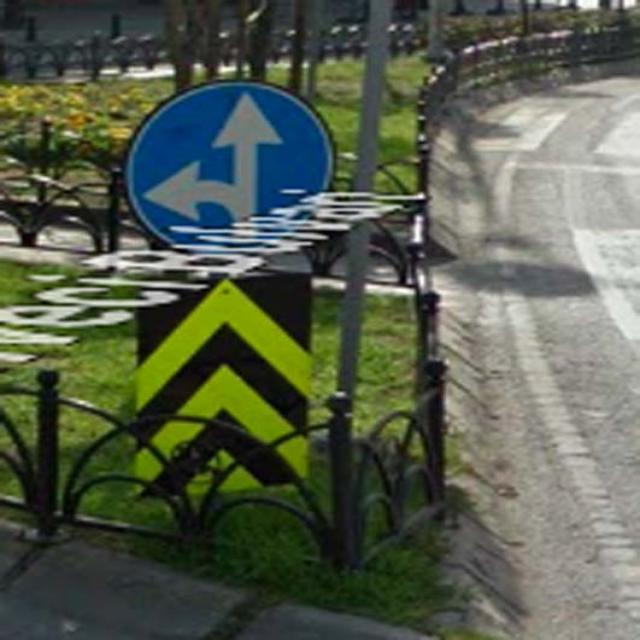ilerisol: (127, 80, 335, 264)
